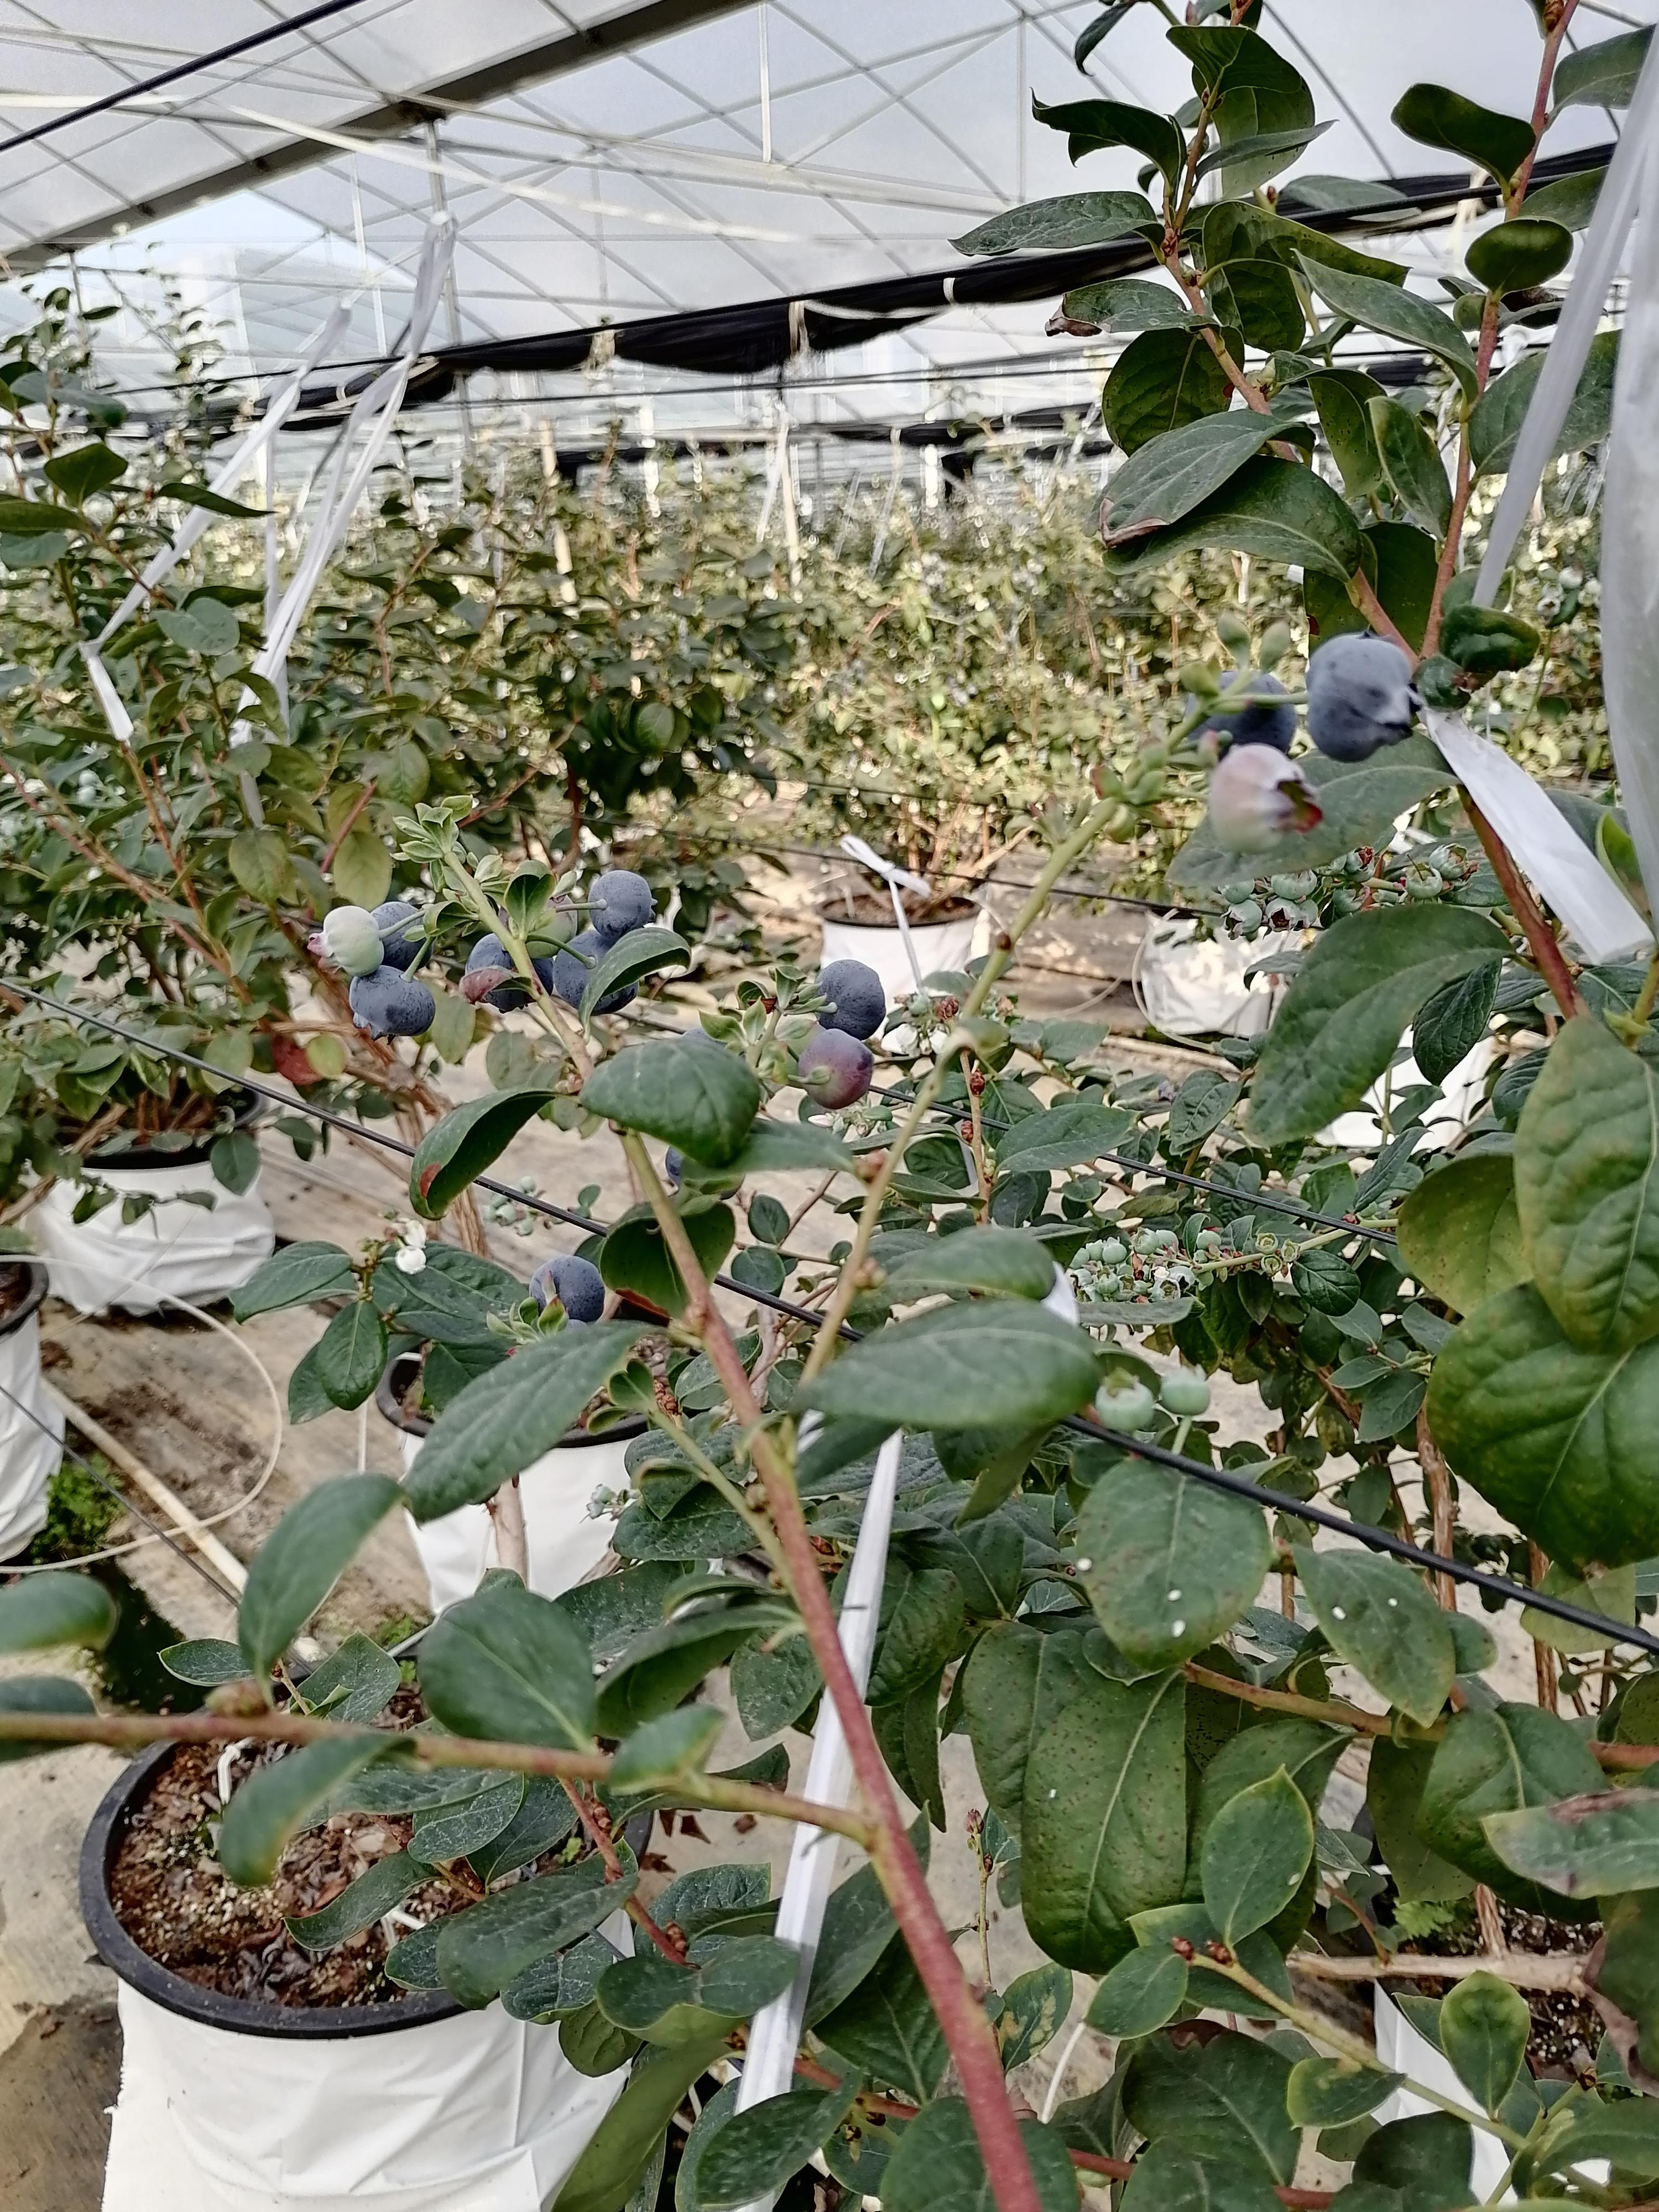ripe-blueberries: (1303, 631, 1425, 768), (1185, 665, 1298, 772), (554, 930, 643, 1017), (464, 934, 556, 1014), (349, 965, 436, 1040), (812, 960, 887, 1043), (528, 1254, 605, 1325), (586, 871, 655, 939), (375, 900, 432, 972)
